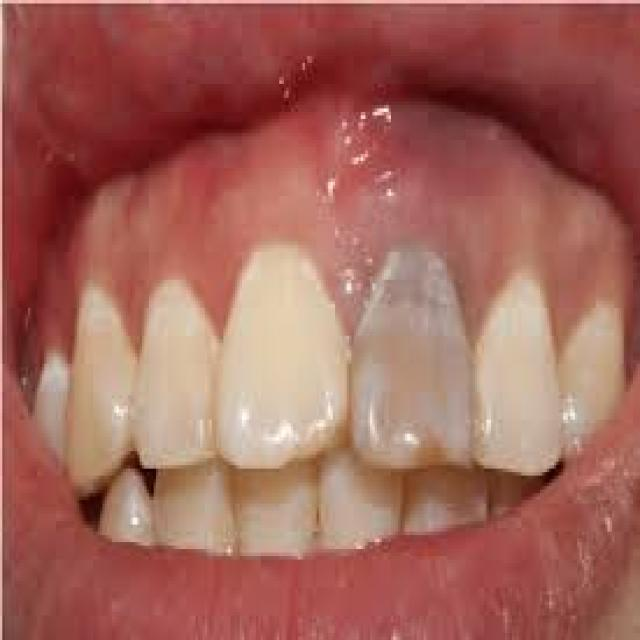Tooth Discoloration: (344, 229, 480, 470)
